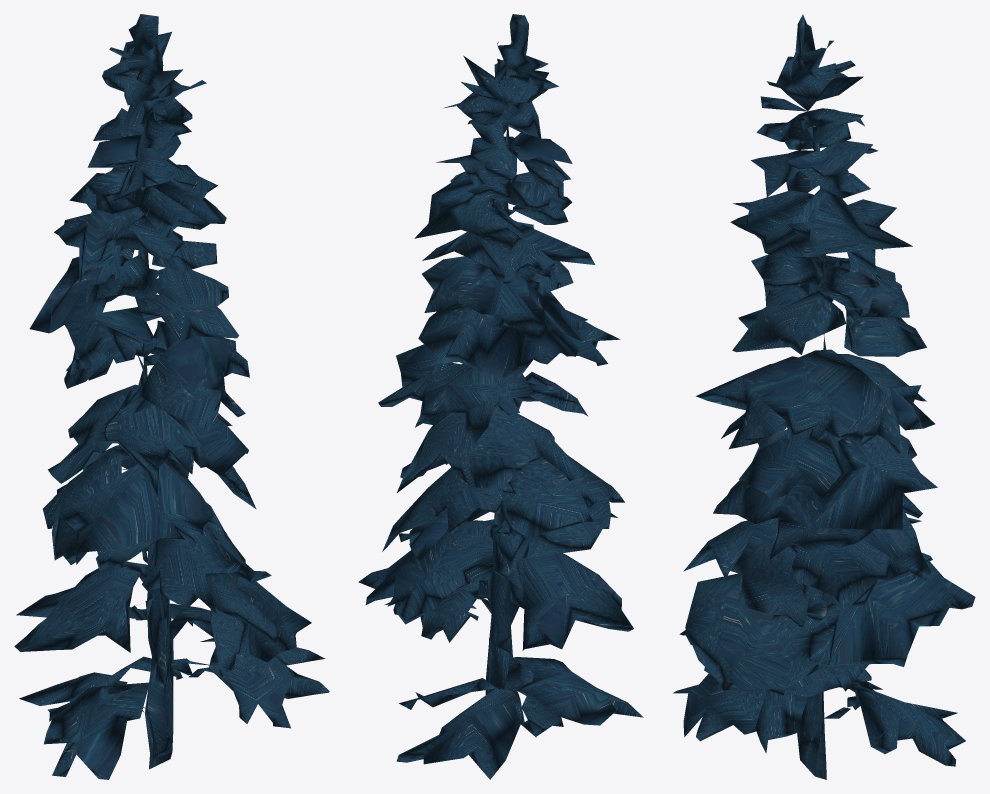
Rendered from pine.glb.
The picture shows the model from 3 angles, left to right: view 1: azimuth 30°, elevation 25°; view 2: azimuth 150°, elevation 25°; view 3: azimuth 270°, elevation 25°; orthographic projection. The views are drawn at different scales.
Size of the model in its own units: 0.653 by 1.69 by 0.6148.
Materials: 1 (1 with a texture image).
